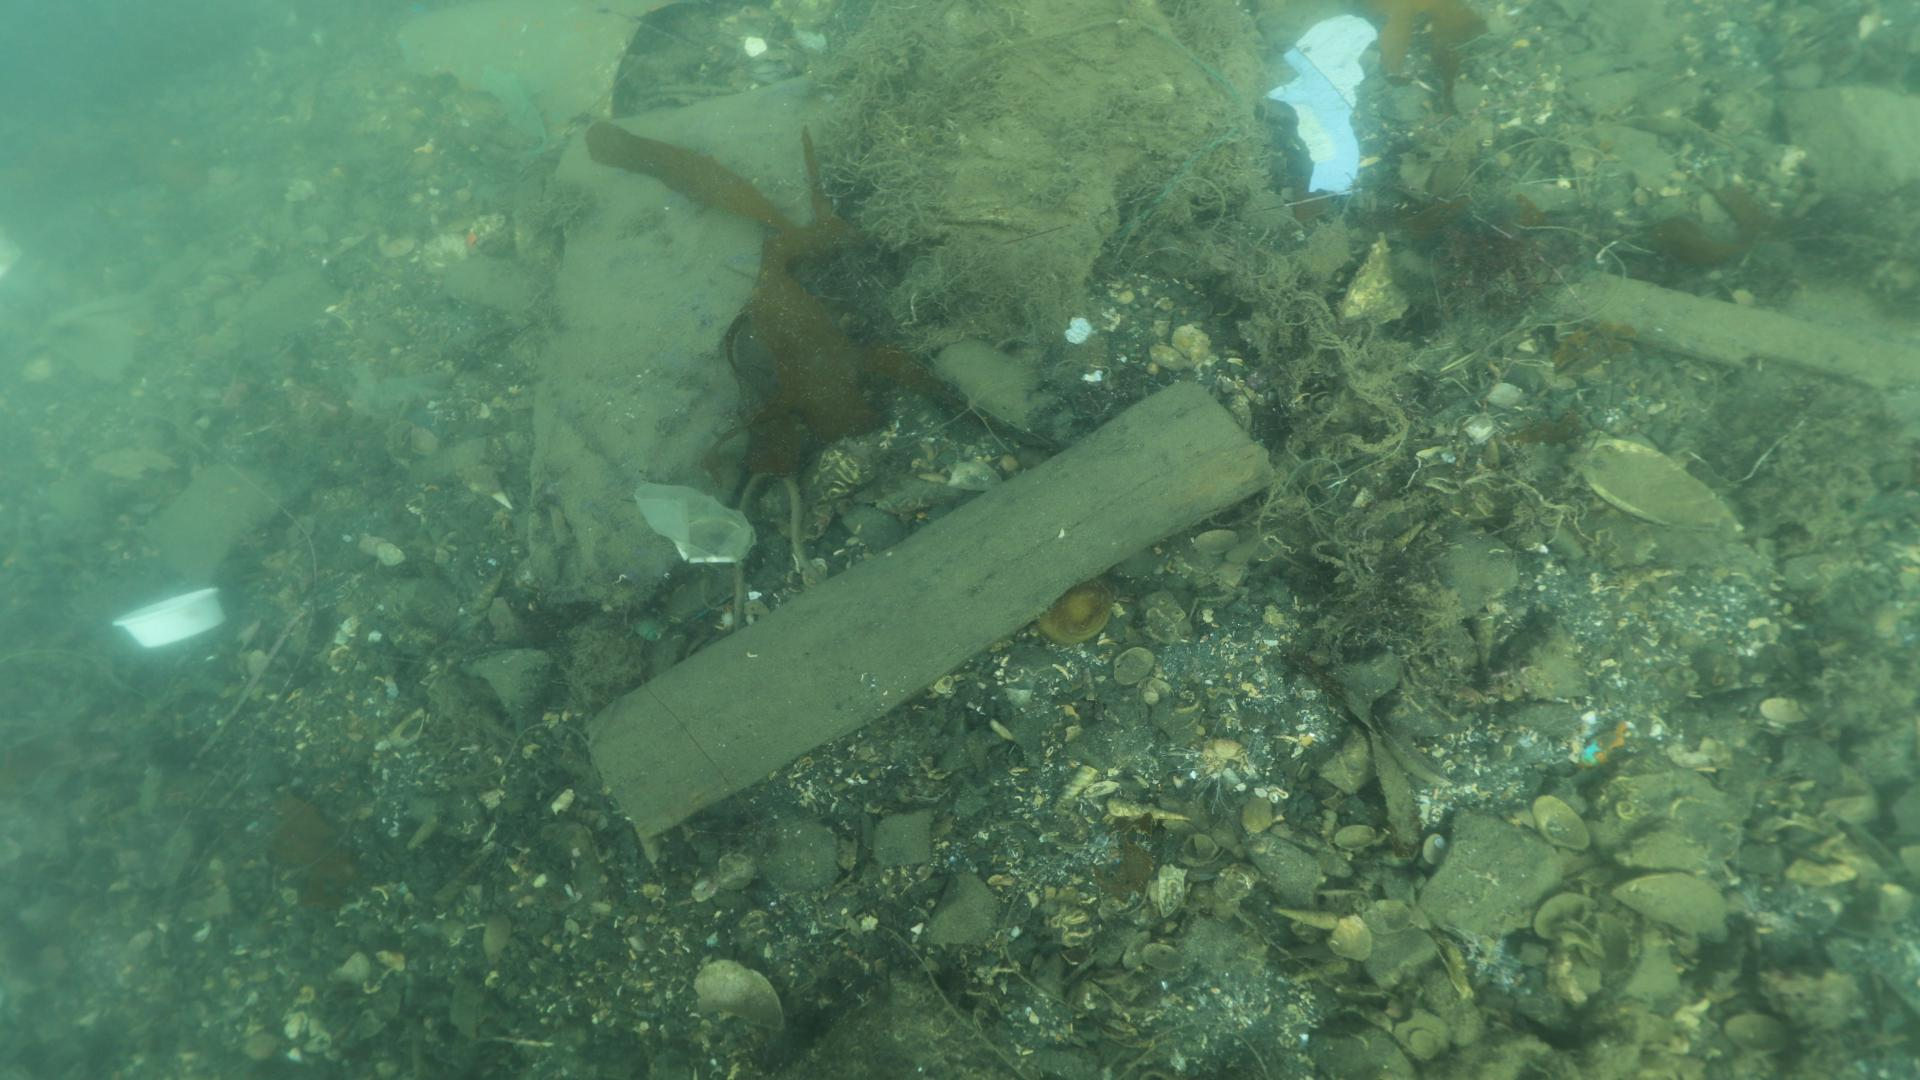wood: (579, 375, 1280, 848)
